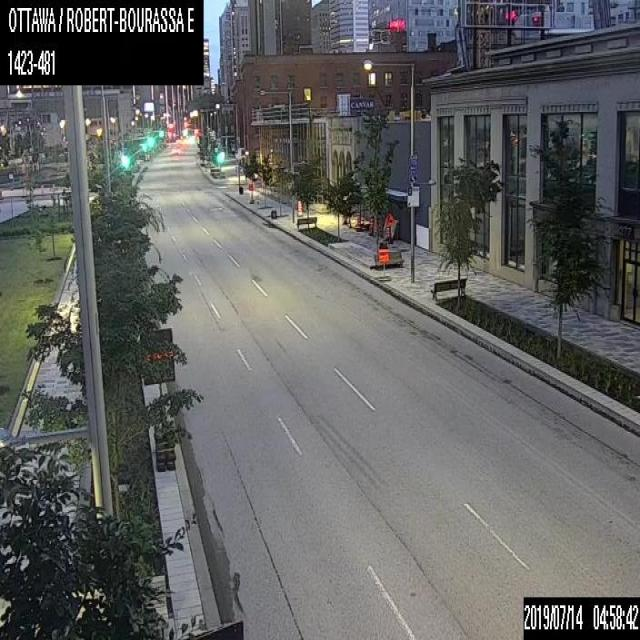construction: (139, 328, 175, 470), (376, 247, 388, 280), (382, 212, 393, 227), (369, 214, 376, 234), (295, 198, 301, 214), (355, 211, 360, 228), (385, 224, 389, 240)
